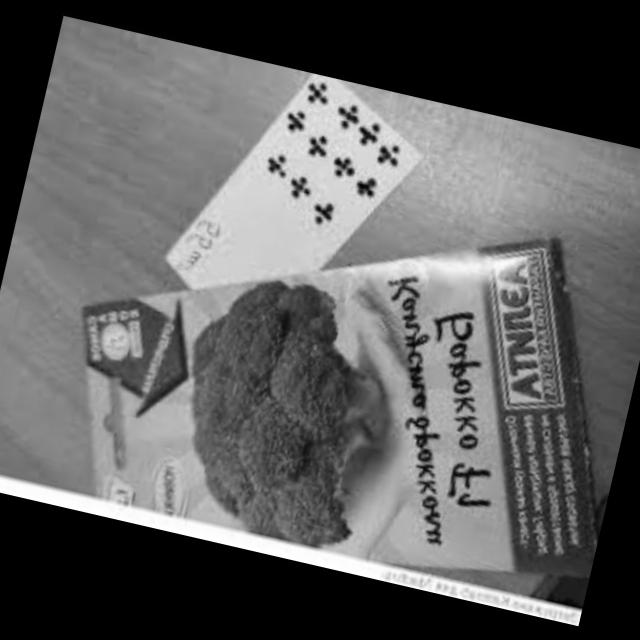bong cai xanh: (139, 270, 428, 565)
